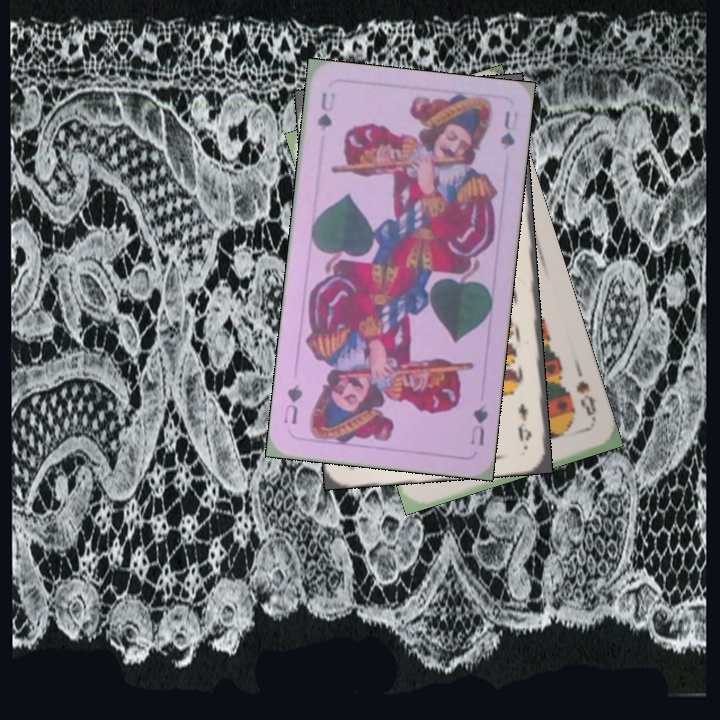E9: (513, 399, 534, 444)
GU: (313, 88, 338, 133), (467, 401, 490, 448)
S8: (572, 376, 599, 430)
